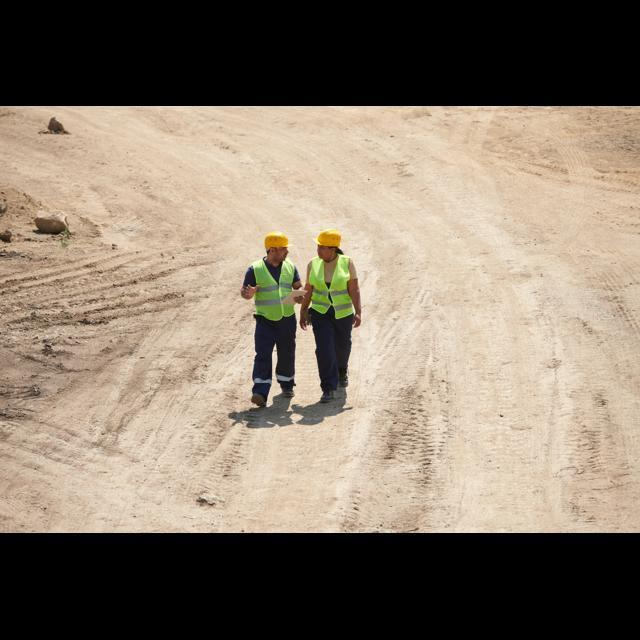Capacete: (315, 229, 340, 246), (264, 231, 288, 248)
Colete: (309, 255, 352, 318), (252, 259, 294, 320)
Pessoa: (240, 231, 301, 406), (300, 229, 360, 402)
